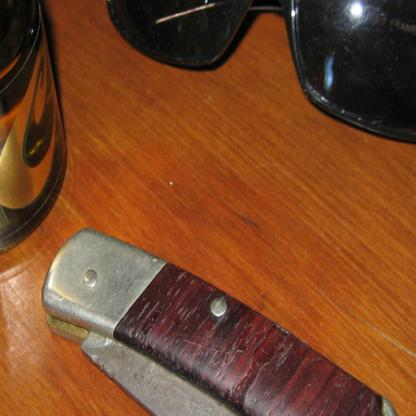knife: (41, 218, 416, 415)
